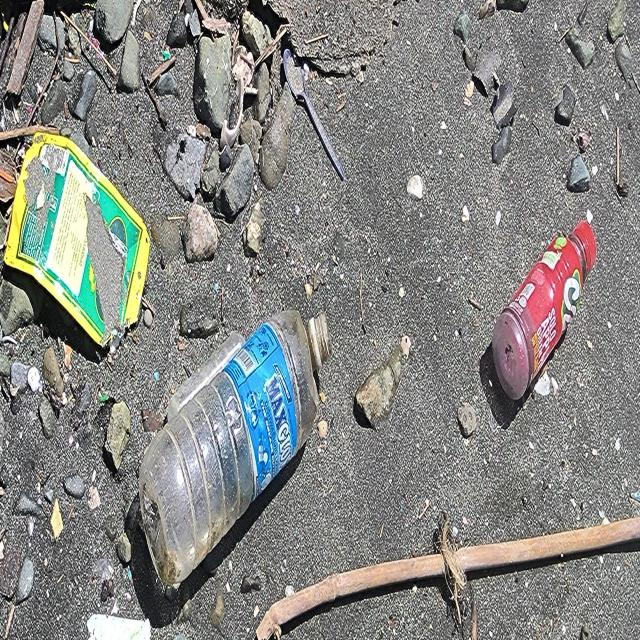plastic_waste: (139, 311, 332, 592), (4, 136, 152, 352), (492, 221, 597, 401)
